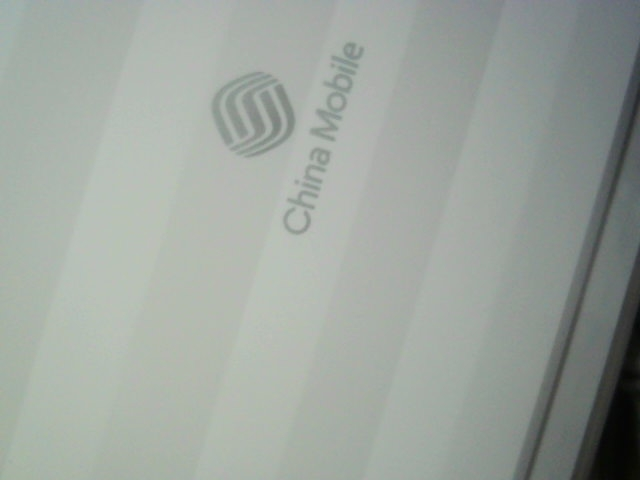AA_ChinaMobile: (208, 29, 375, 246)
